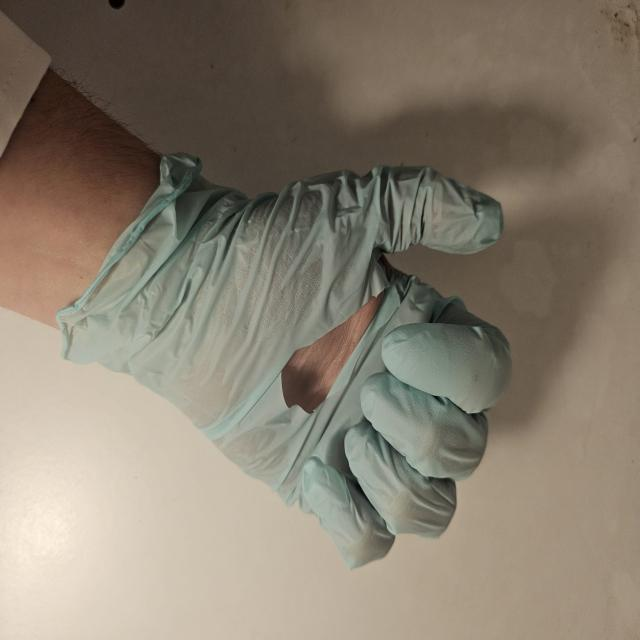gloves_damaged: (53, 150, 514, 576)
